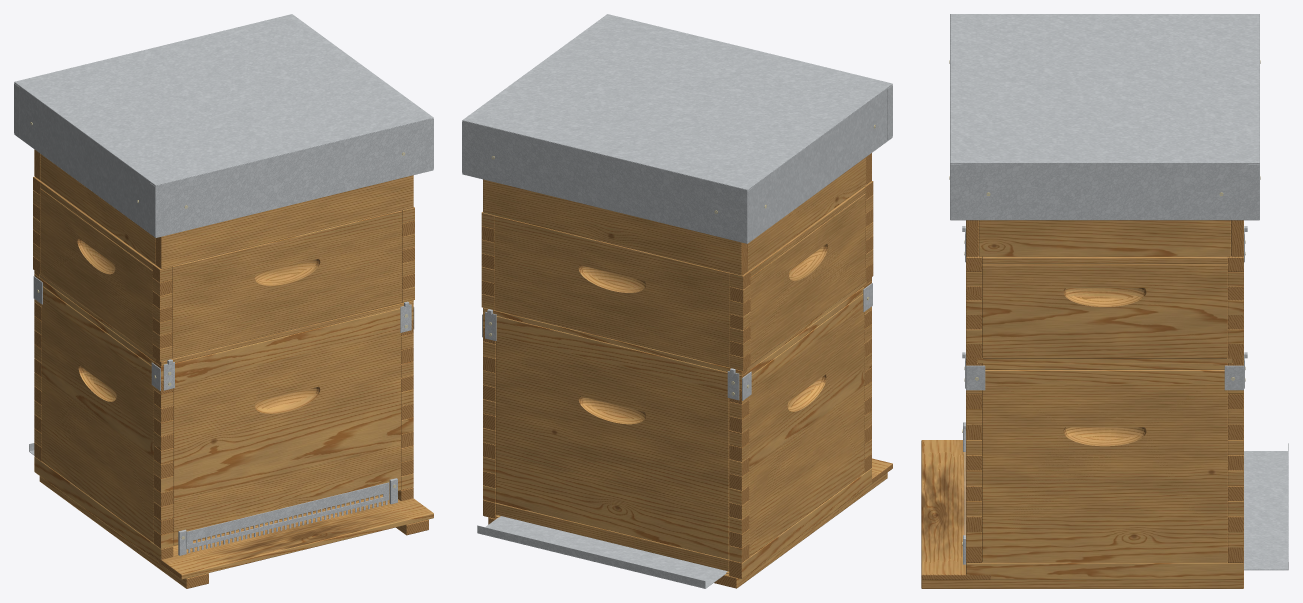
The model's file is arnia-ar.glb.
The picture shows the model from 3 angles, left to right: view 1: azimuth 30°, elevation 25°; view 2: azimuth 150°, elevation 25°; view 3: azimuth 270°, elevation 25°; orthographic projection. The views are drawn at different scales.
Parts seen in each view (by area): view 1: nido, tetto, melario, coprifavo, fondo, porticina, escludiregina; view 2: nido, tetto, melario, coprifavo, fondo, cassettino, escludiregina; view 3: tetto, nido, melario, fondo, coprifavo, cassettino, escludiregina.
Boxes of the visible parts, left/top/right/bottom form: nido: left=33, top=274, right=414, bottom=548; tetto: left=14, top=14, right=433, bottom=237; melario: left=33, top=176, right=414, bottom=361; coprifavo: left=34, top=149, right=413, bottom=268; fondo: left=34, top=457, right=433, bottom=588; porticina: left=178, top=478, right=397, bottom=555; escludiregina: left=34, top=270, right=413, bottom=366; nido: left=482, top=281, right=872, bottom=562; tetto: left=462, top=14, right=892, bottom=243; melario: left=481, top=181, right=873, bottom=370; coprifavo: left=483, top=153, right=871, bottom=275; fondo: left=483, top=458, right=892, bottom=588; cassettino: left=477, top=516, right=727, bottom=588; escludiregina: left=483, top=277, right=871, bottom=375; tetto: left=949, top=14, right=1260, bottom=220; nido: left=962, top=226, right=1247, bottom=562; melario: left=966, top=256, right=1243, bottom=358; fondo: left=921, top=440, right=1243, bottom=588; coprifavo: left=966, top=220, right=1243, bottom=256; cassettino: left=1244, top=443, right=1288, bottom=570; escludiregina: left=966, top=358, right=1243, bottom=363.
Bounding box in the file's own units: 0.5523 × 0.754 × 0.575.
Materials: 18 (13 with a texture image).
